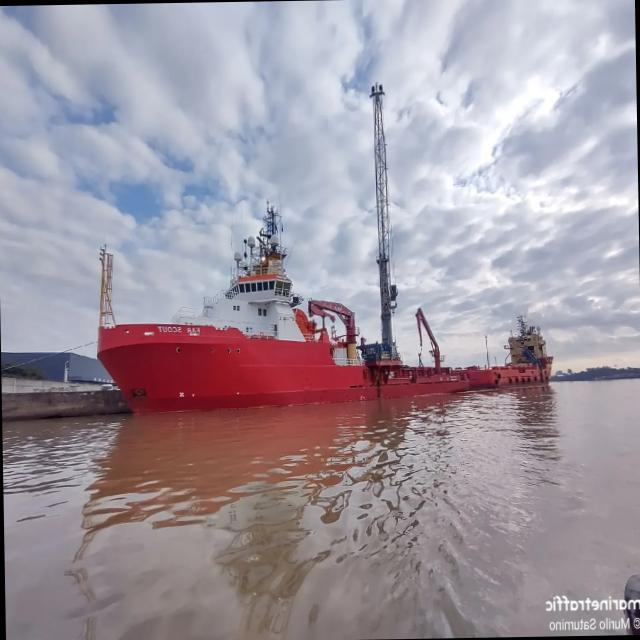Offshore: (97, 205, 470, 412), (466, 315, 552, 388)
